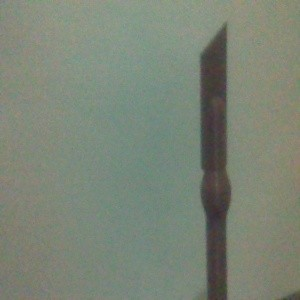cutter: (198, 20, 232, 300)
